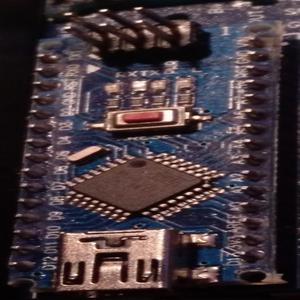duino: (20, 1, 270, 294)
